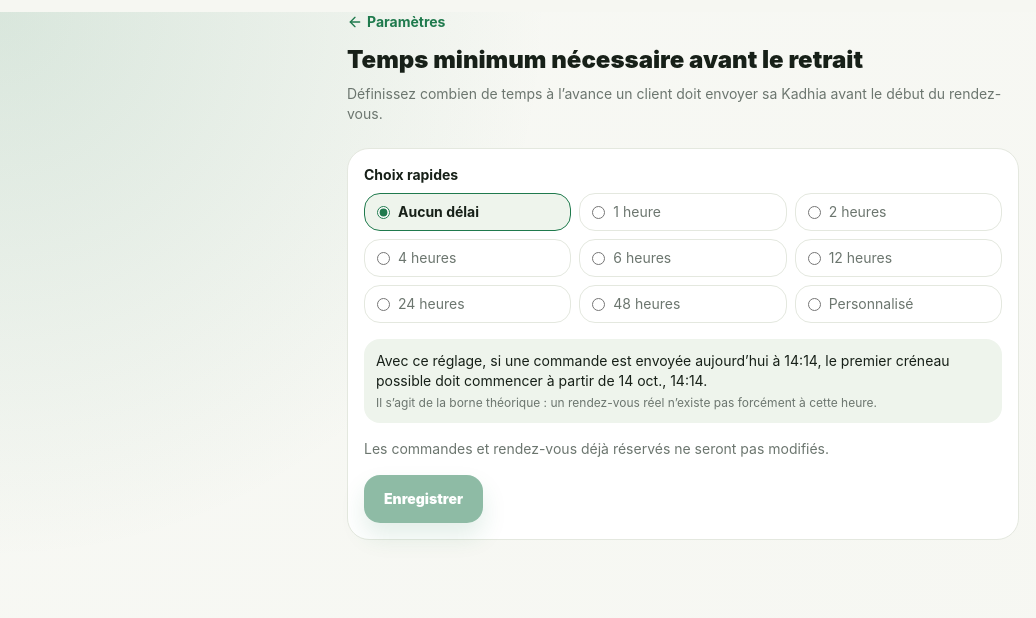
MerchantOrderingPolicyPage (ORDER-LEAD-003) › warns for high values without blocking them
Check: the button "Enregistrer" is shown, box [364,475,483,523]
Click the radio button labelled "48 heures".
click(599, 304)  # box [592,298,605,310]
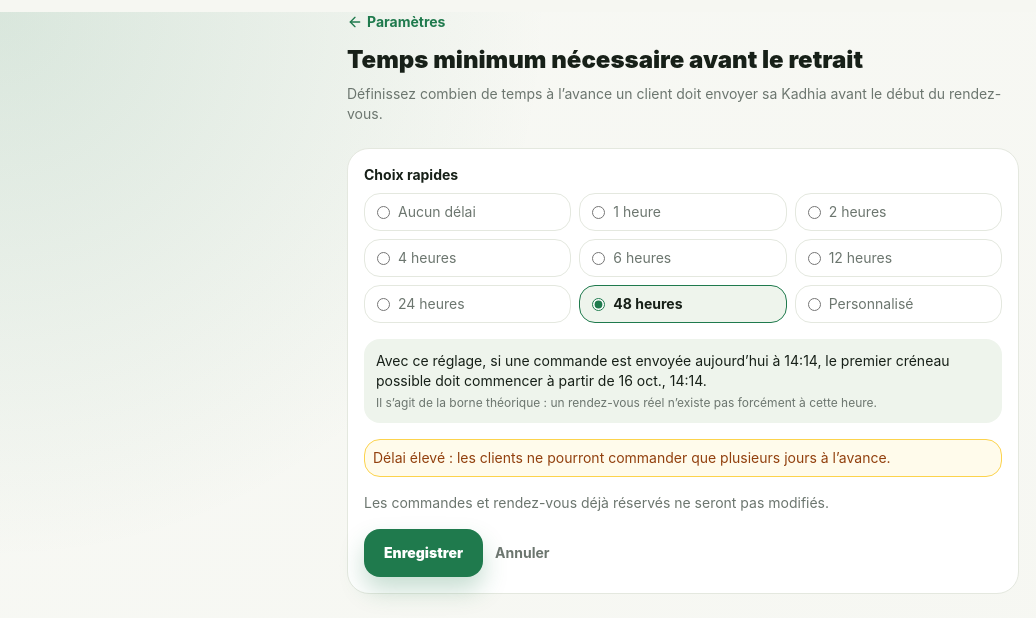
Check: the text "Délai élevé" is shown, box [373,449,891,466]
Check: the button "Enregistrer" is enabled, box [364,529,483,577]
